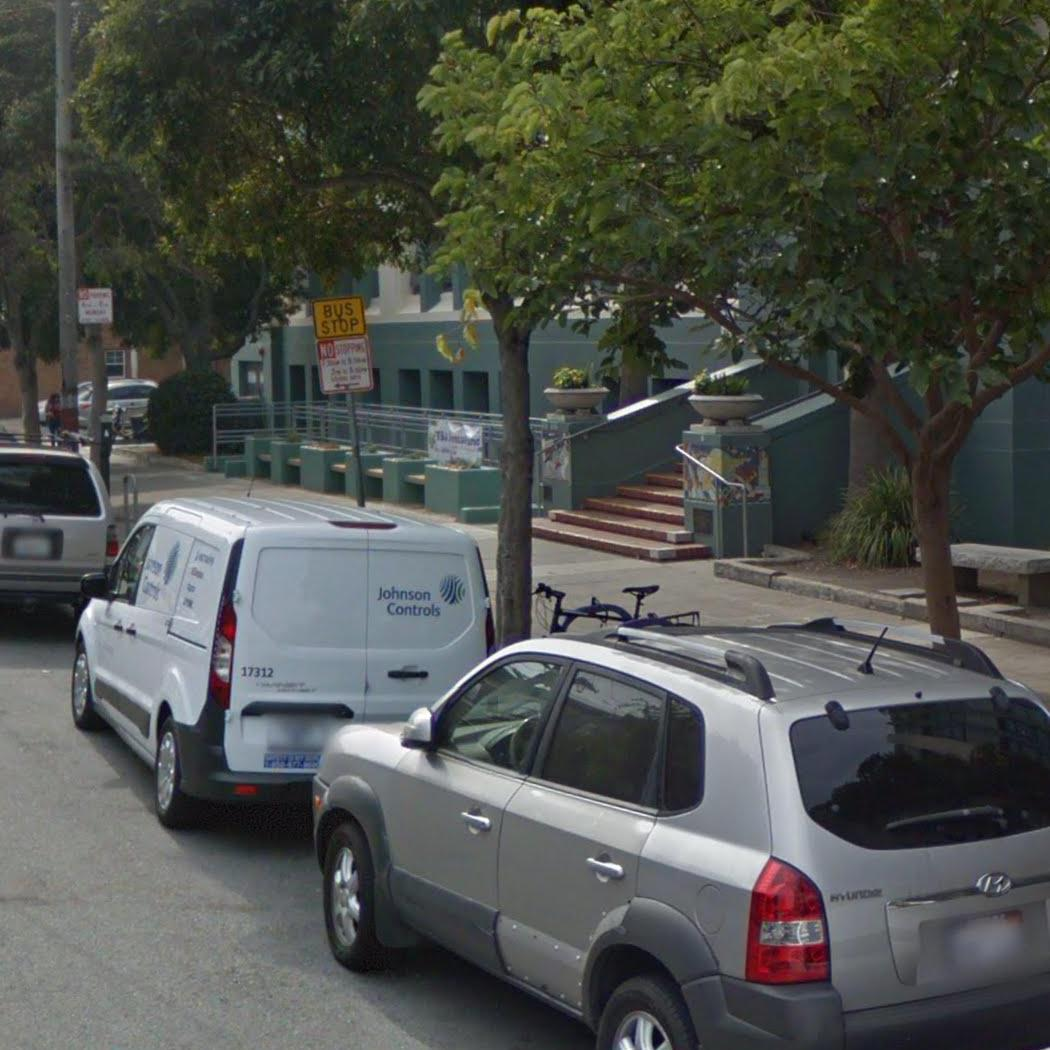No Parking: (315, 334, 375, 396), (75, 285, 115, 327)
